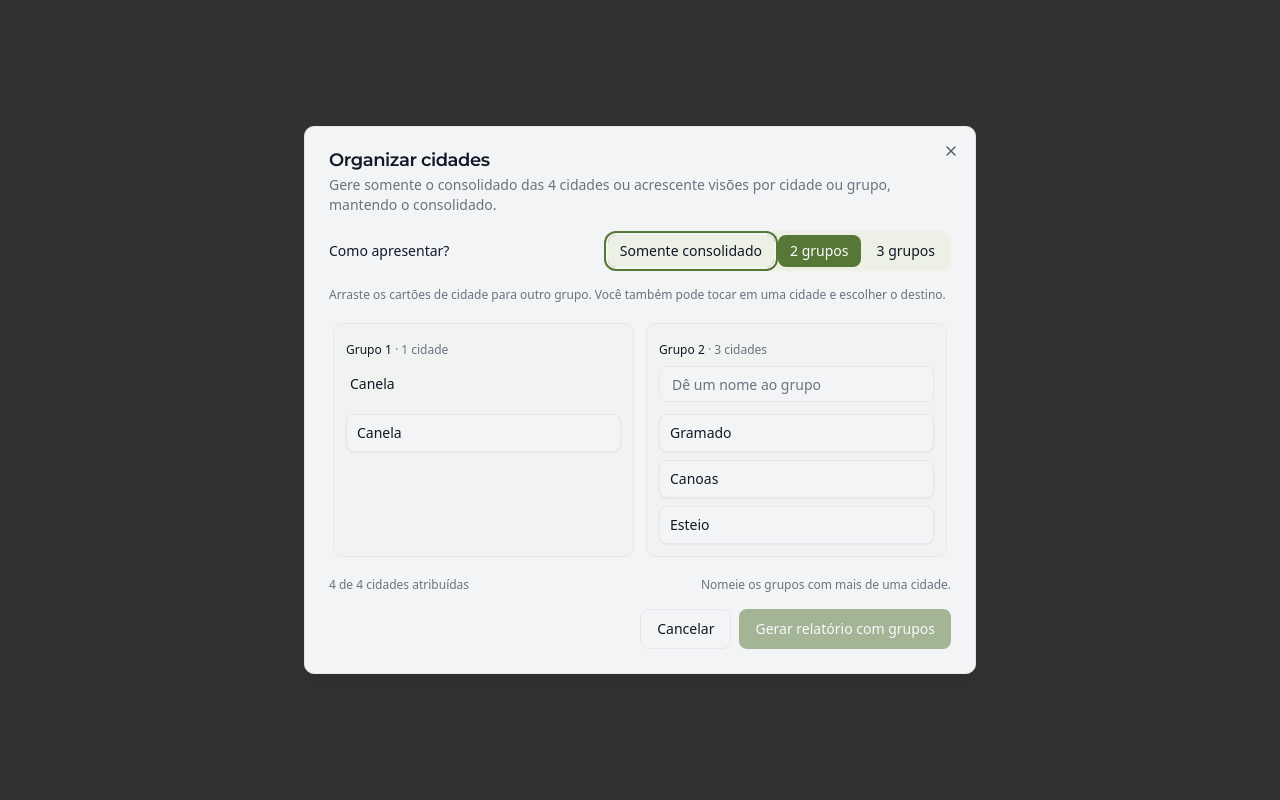
grupos no relatório único › preserva os grupos ao alternar para consolidado e voltar, sem gerar ao cancelar
This screenshot has width=1280, height=800.
Later steps or results of the test are not shown.
Type "Entorno" into the field named "Nome do grupo 2" at (796, 384), box [659,366,934,402]
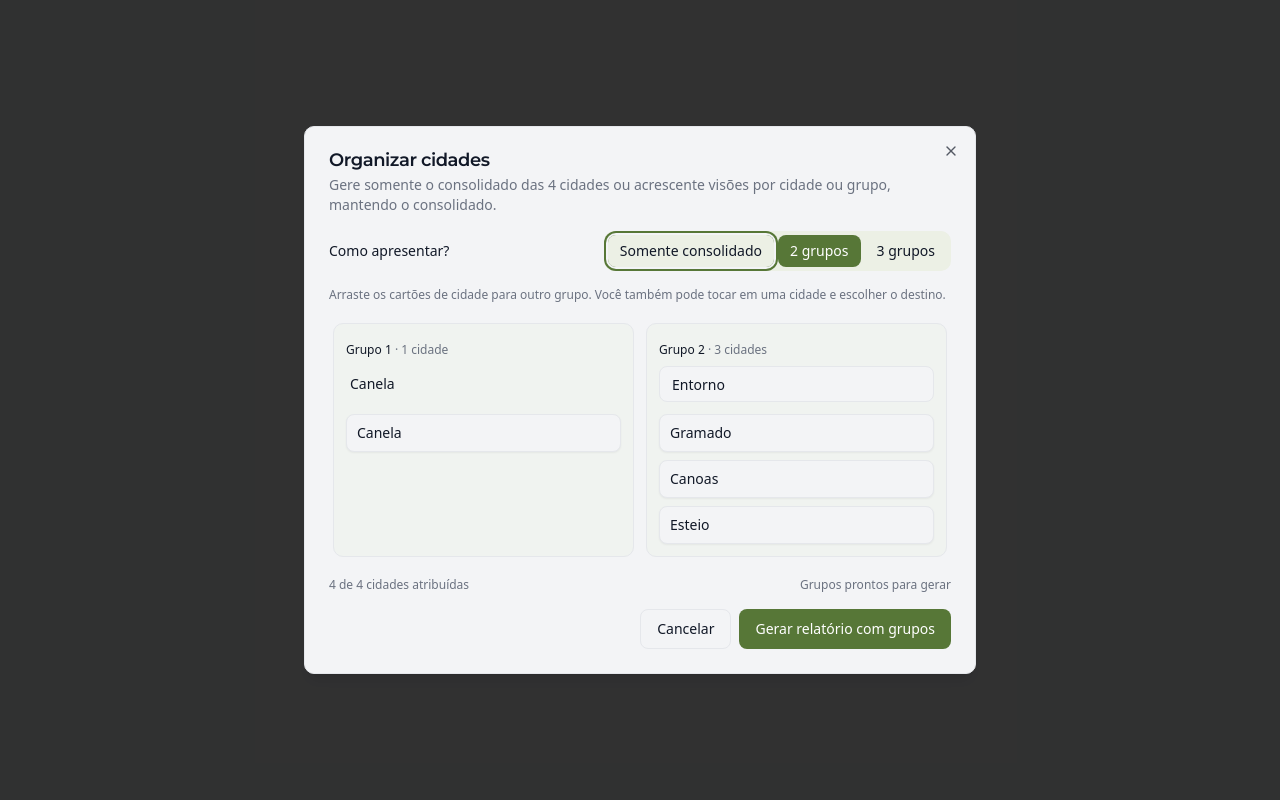
Click the button "Somente consolidado" at (691, 251), box [608,235,774,267]
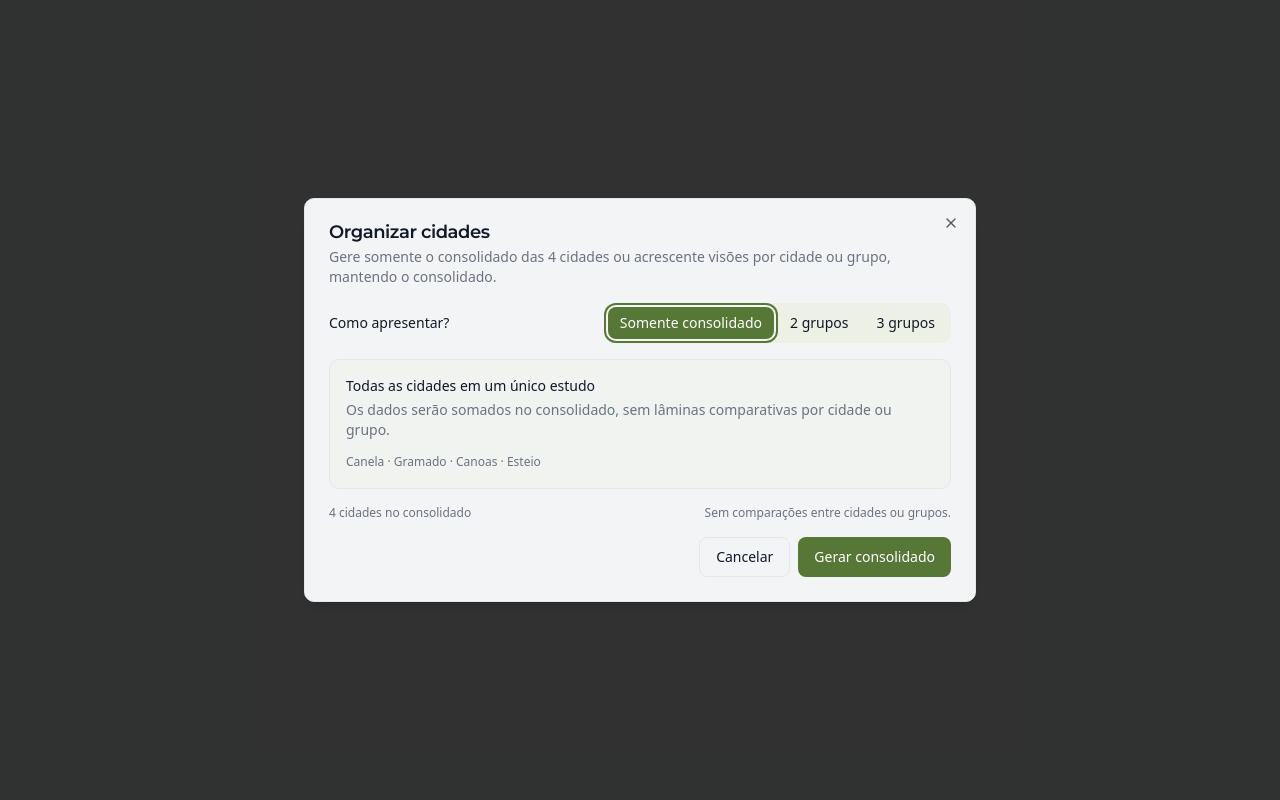
Click the button "2 grupos" at (819, 323), box [778,307,860,339]
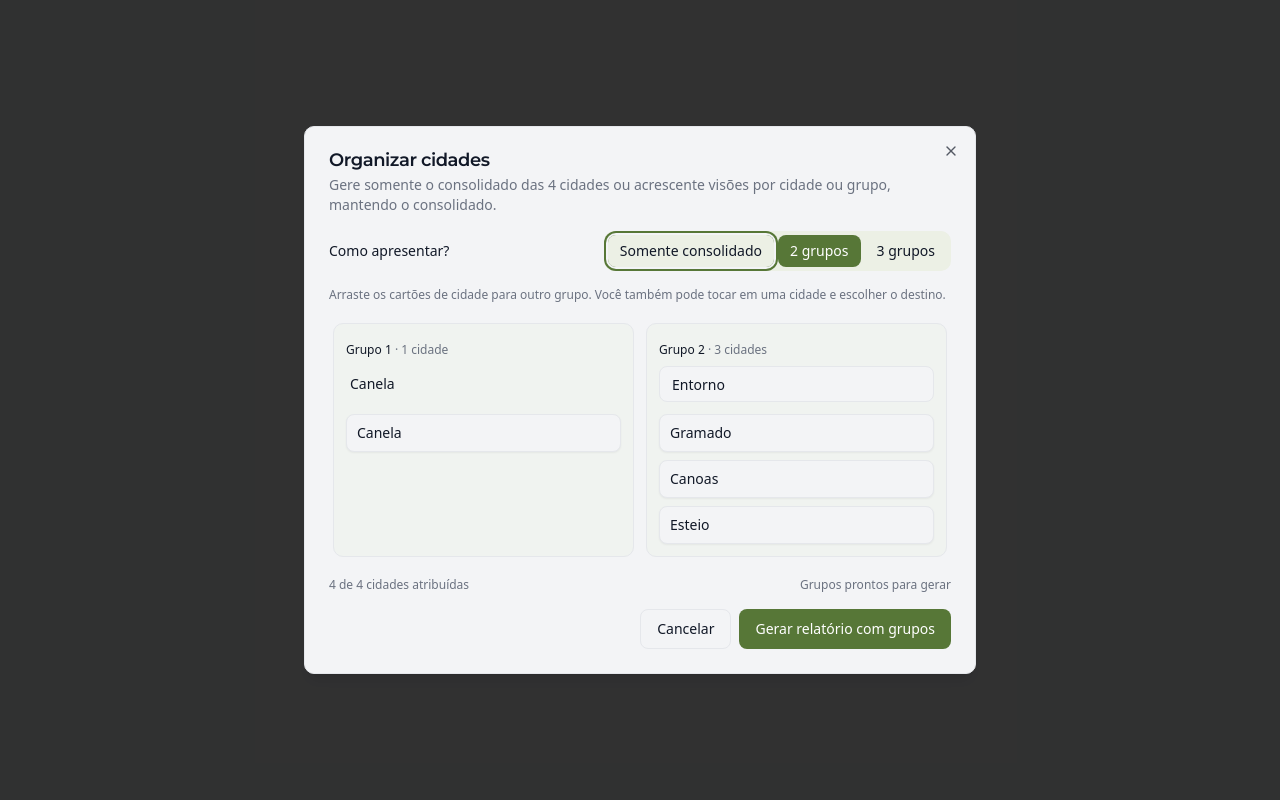
Now the field named "Nome do grupo 2" holds "Entorno", box [659,366,934,402]
